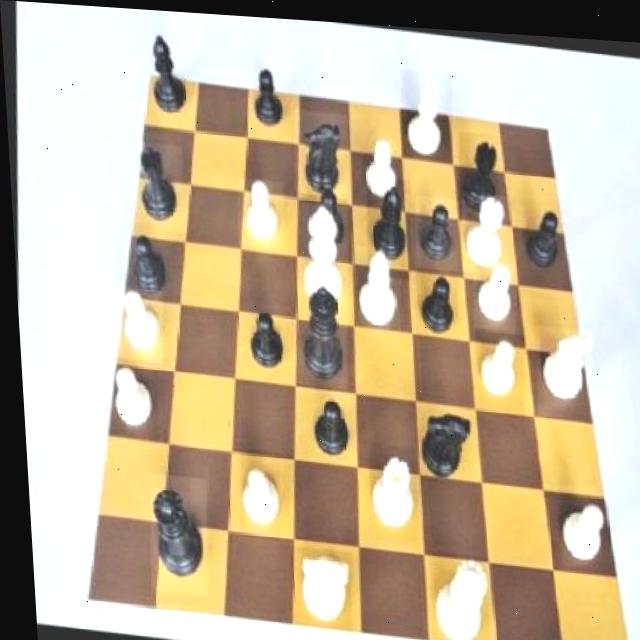bishop: (361, 171, 413, 277), (136, 19, 191, 119)
black-bishop: (289, 279, 348, 387)
black-king: (289, 106, 350, 195), (408, 396, 470, 481)
black-knight: (296, 175, 350, 256), (120, 233, 177, 309), (302, 383, 355, 461), (245, 51, 291, 140), (240, 299, 291, 379), (517, 193, 567, 273), (409, 190, 460, 267), (410, 266, 458, 335)
black-pawn: (138, 471, 206, 594)
black-queen: (126, 139, 184, 228), (452, 125, 501, 221)
black-rook: (396, 64, 456, 160), (351, 241, 402, 326)
white-bishop: (290, 198, 351, 318)
white-king: (529, 318, 592, 414), (280, 543, 348, 630)
white-knight: (98, 355, 159, 444), (466, 324, 523, 412), (552, 477, 606, 569), (104, 283, 163, 362), (229, 445, 278, 540), (232, 173, 285, 248), (468, 250, 517, 328), (353, 129, 403, 205)
white-pawn: (420, 545, 488, 640)
white-queen: (360, 438, 415, 540), (457, 185, 510, 272)
